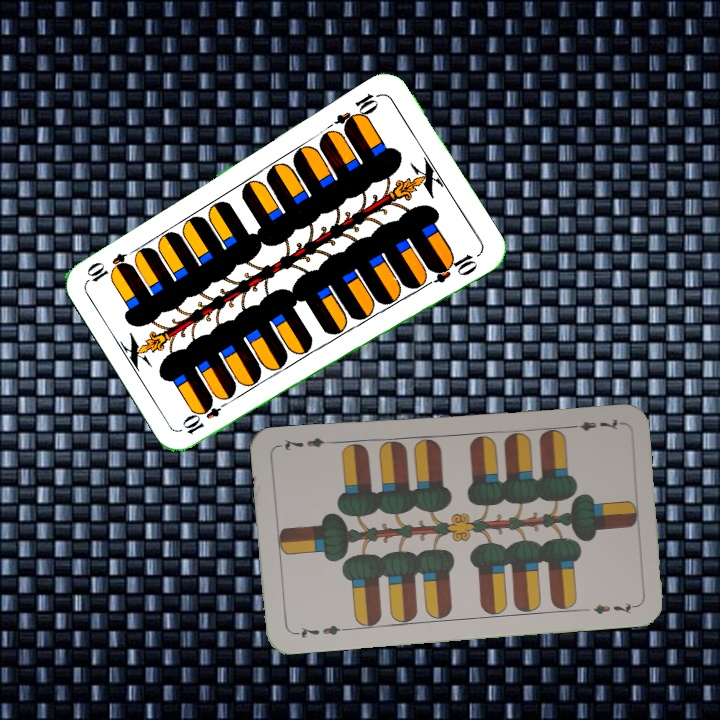E10: (330, 88, 384, 134), (179, 395, 233, 437)
E7: (289, 621, 348, 641), (564, 415, 623, 433)
